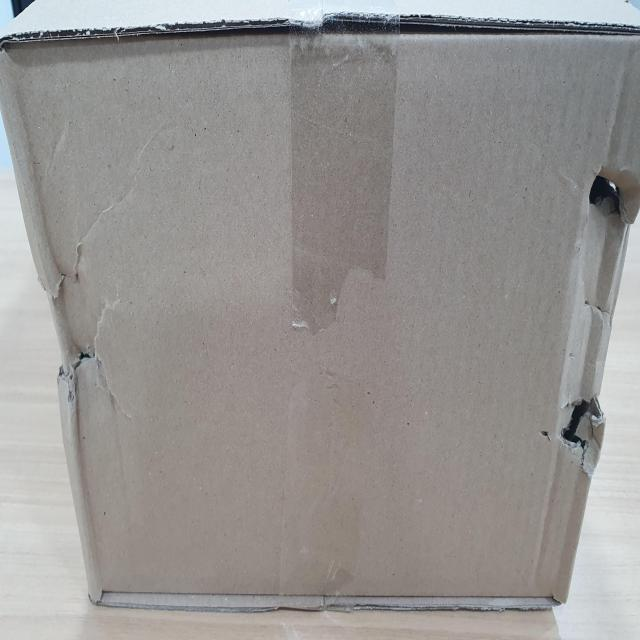damaged: (47, 296, 125, 422), (578, 137, 640, 257), (556, 371, 604, 478)
